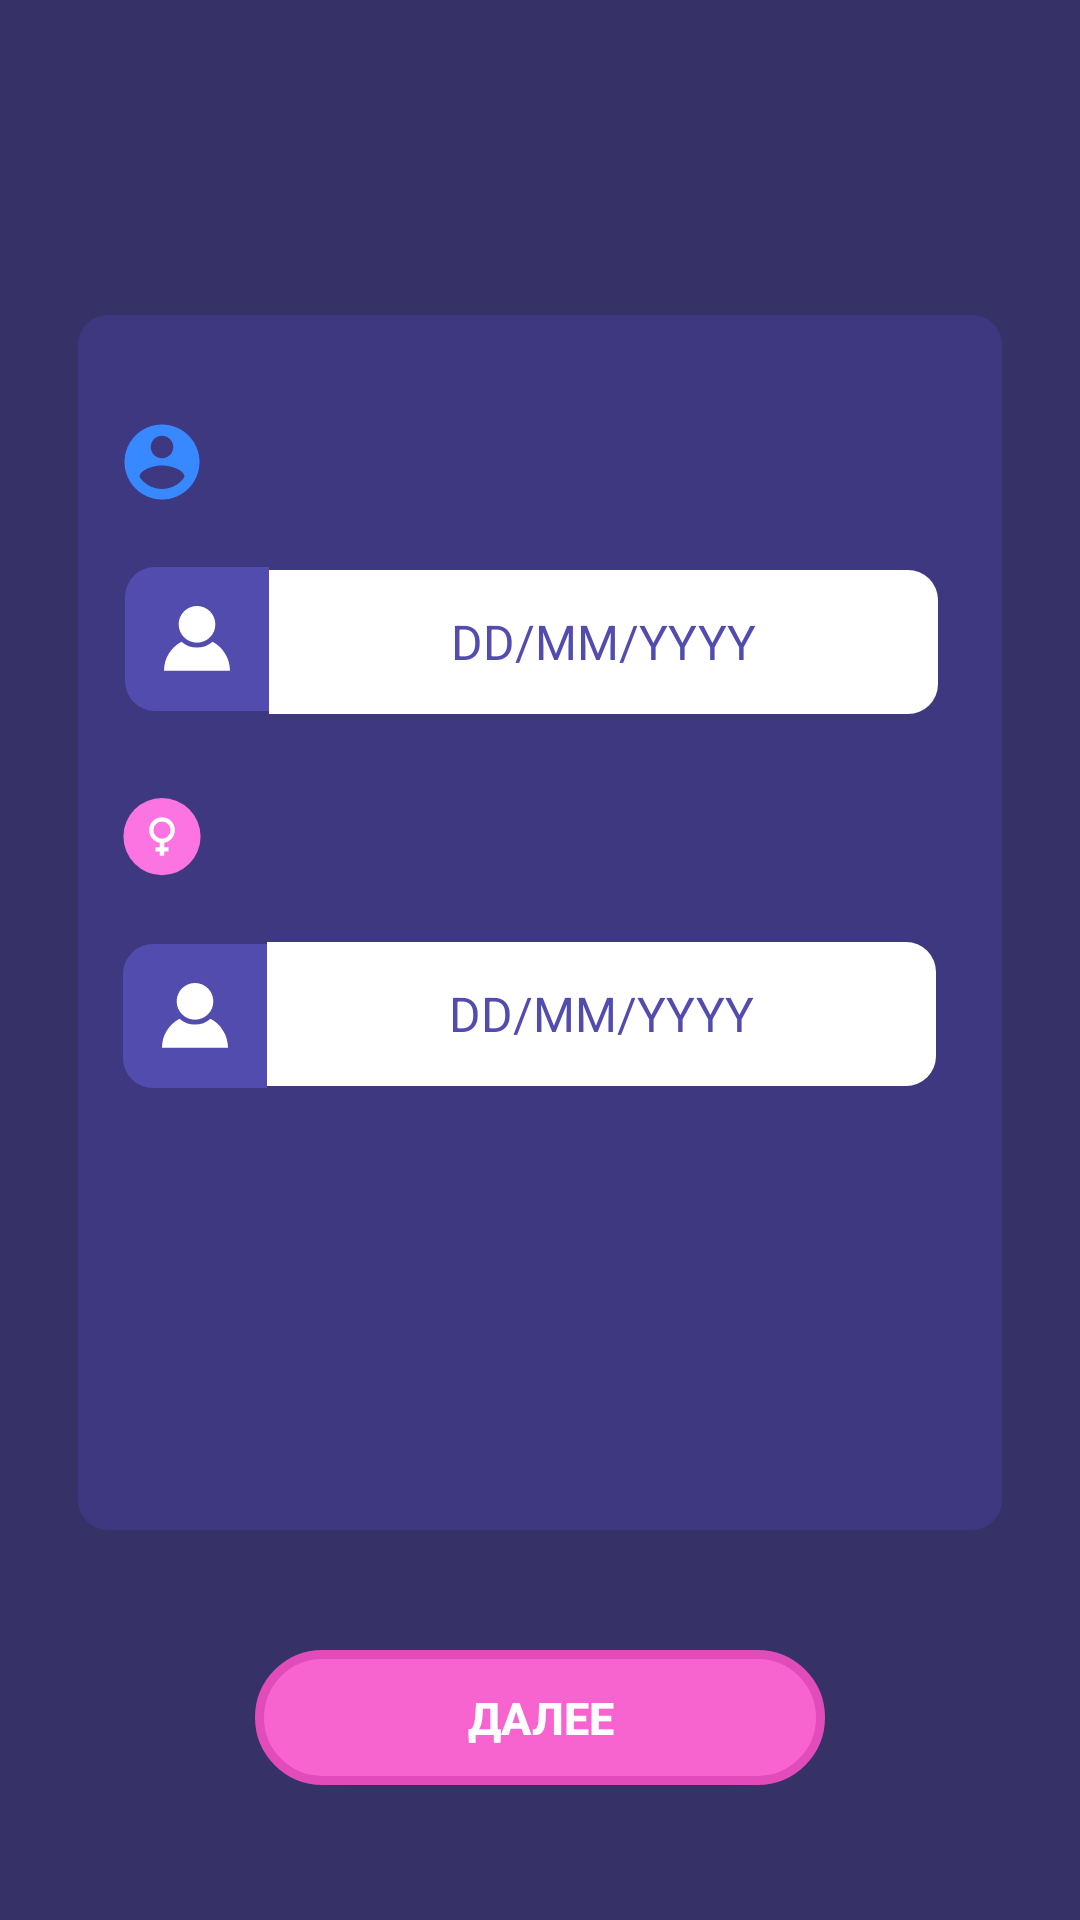

Where icons sit on this 1080x1920 app screen, as {"x1": x1, "y1": y1, "x2": x2, "y2": y2}:
female: {"x1": 123, "y1": 798, "x2": 201, "y2": 876}
man act: {"x1": 124, "y1": 424, "x2": 200, "y2": 500}
